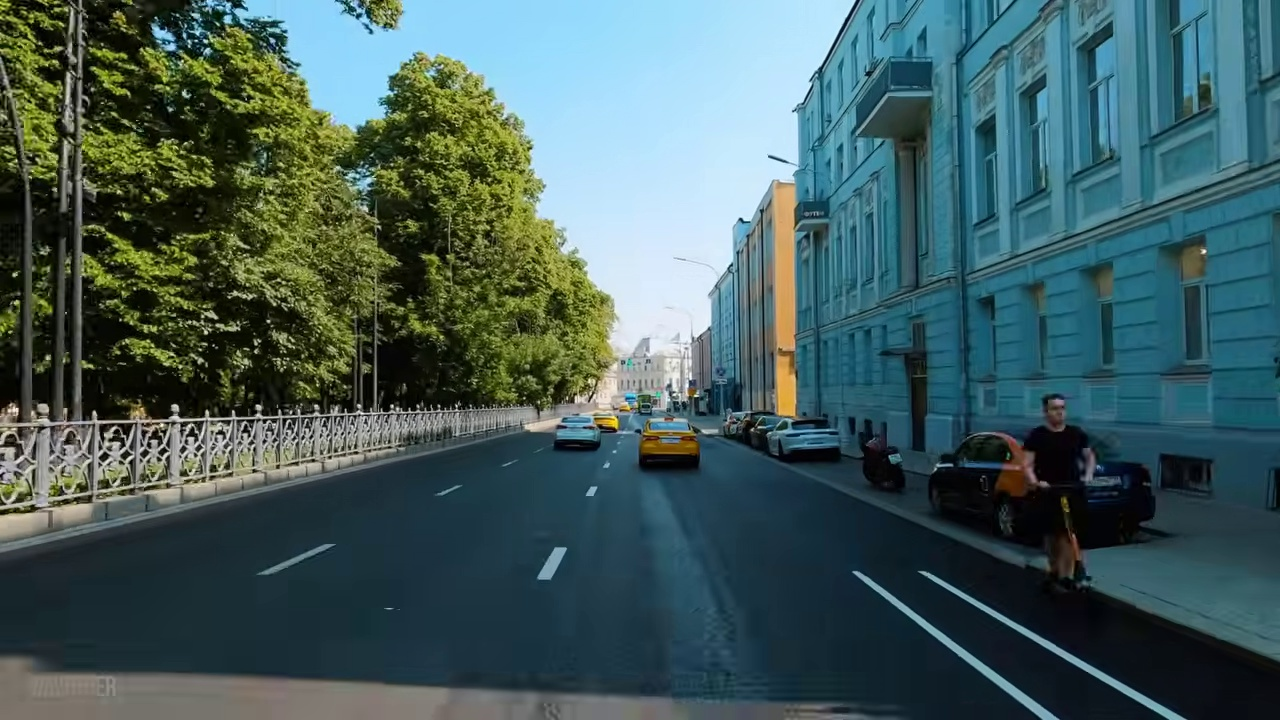apagada: (765, 148, 792, 171)
